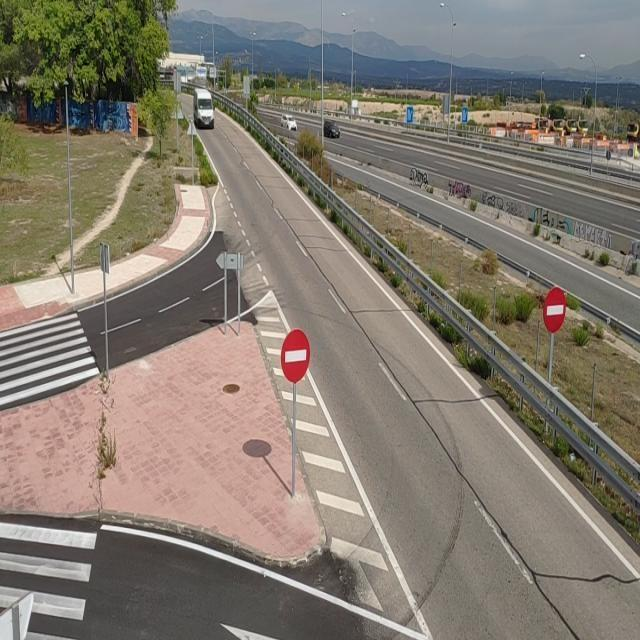Car: (323, 119, 341, 139), (280, 113, 298, 131)
Truck: (194, 86, 216, 132)
